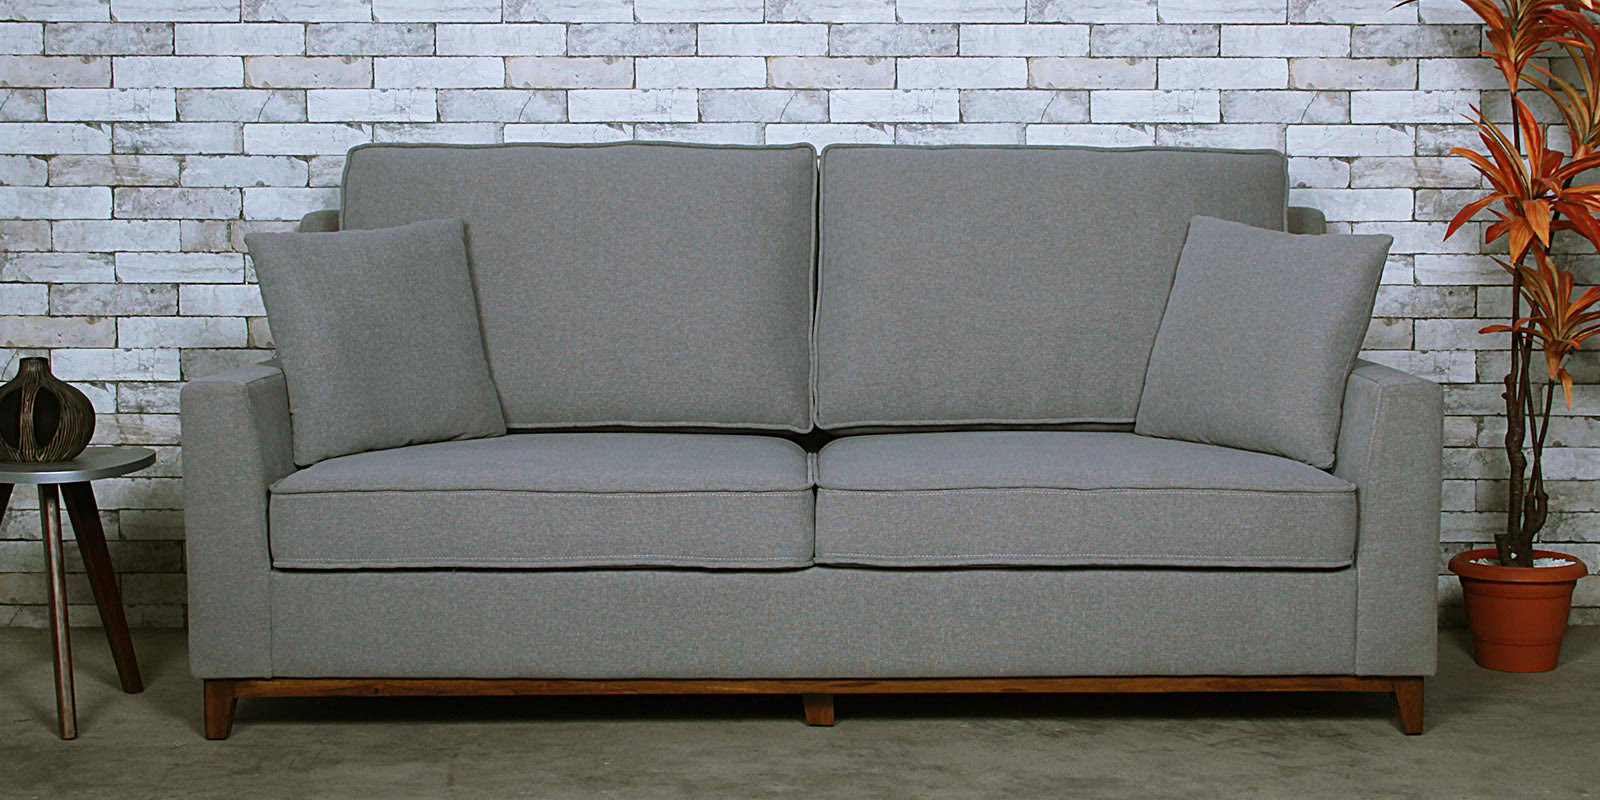Diego Three Seater Sofa in Ash Grey Colour by CasaCraft: (178, 119, 1477, 755)
